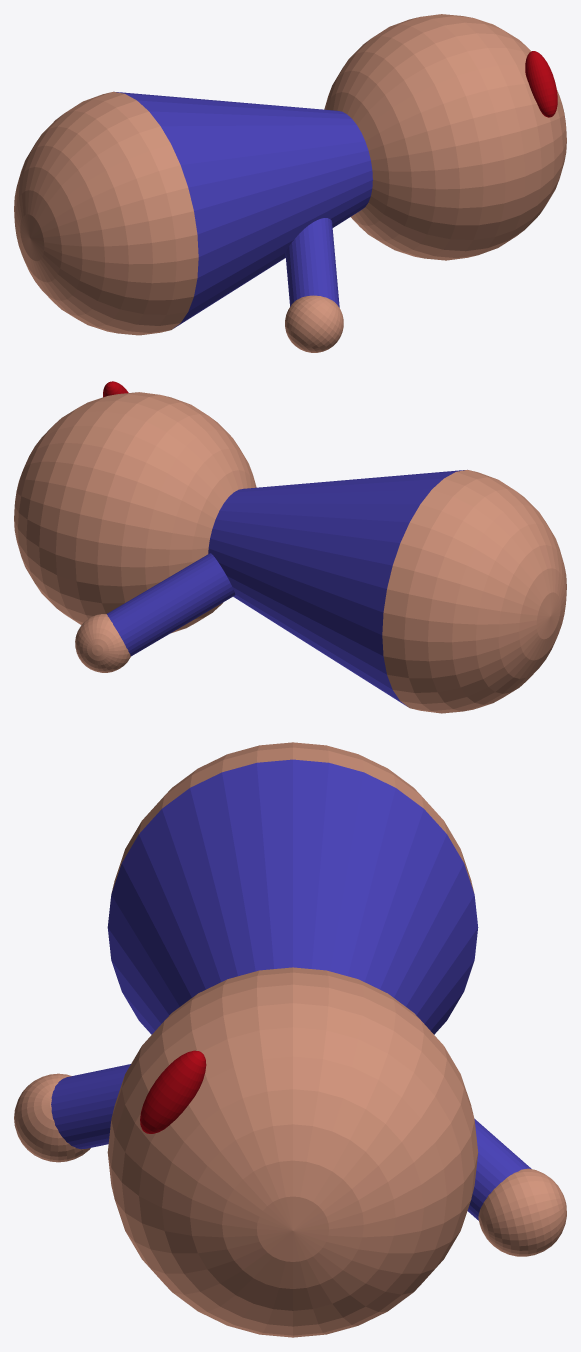
The model's file is injured.fbx.
3 renders of one model, top to bottom at view 1: azimuth 30°, elevation 25°; view 2: azimuth 150°, elevation 25°; view 3: azimuth 270°, elevation 25°, orthographic. The views are drawn at different scales.
Visible parts, largest first — view 1: 球, 球.003, 円柱.002, 球.002, 球.004; view 2: 球, 球.003, 円柱.001, 球.001; view 3: 球.003, 球, 球.001, 円柱.002, 球.002, 球.004, 円柱.001.
Boxes of the visible parts, box(x1,y1,x2,y2) form: 球: box(14, 91, 372, 335); 球.003: box(324, 14, 566, 260); 円柱.002: box(285, 218, 339, 307); 球.002: box(285, 295, 343, 352); 球.004: box(525, 51, 557, 117); 球: box(208, 469, 566, 713); 球.003: box(14, 392, 256, 633); 円柱.001: box(107, 553, 235, 656); 球.001: box(75, 614, 130, 672); 球.003: box(107, 967, 478, 1337); 球: box(107, 742, 478, 1034); 球.001: box(478, 1168, 566, 1256); 円柱.002: box(51, 1064, 130, 1149); 球.002: box(14, 1073, 90, 1162); 球.004: box(140, 1050, 206, 1133); 円柱.001: box(467, 1118, 531, 1220).
Bounding box in the file's own units: 487 × 200 × 298.
